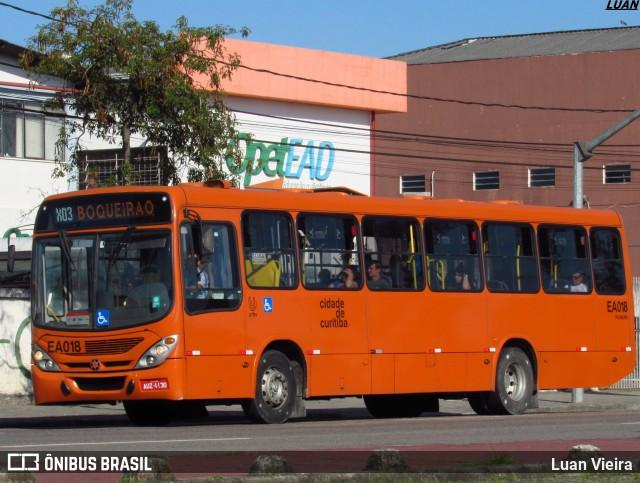BOQUEIRAO: (73, 197, 159, 225)
